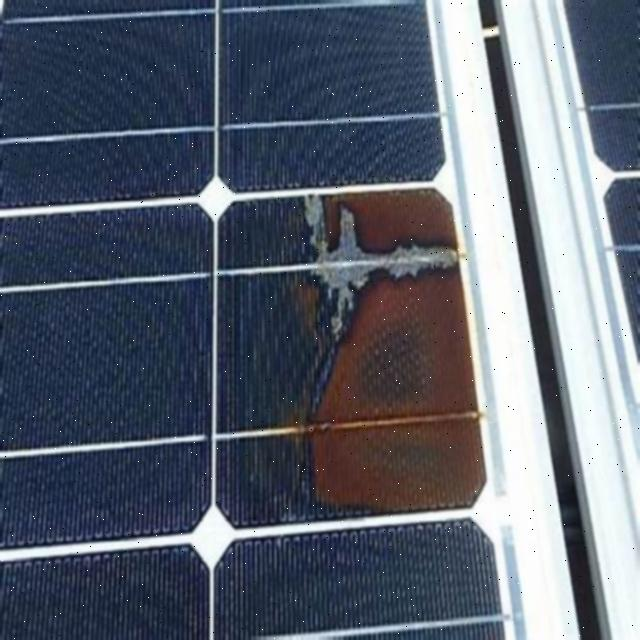electrical damage: (220, 178, 490, 543)
